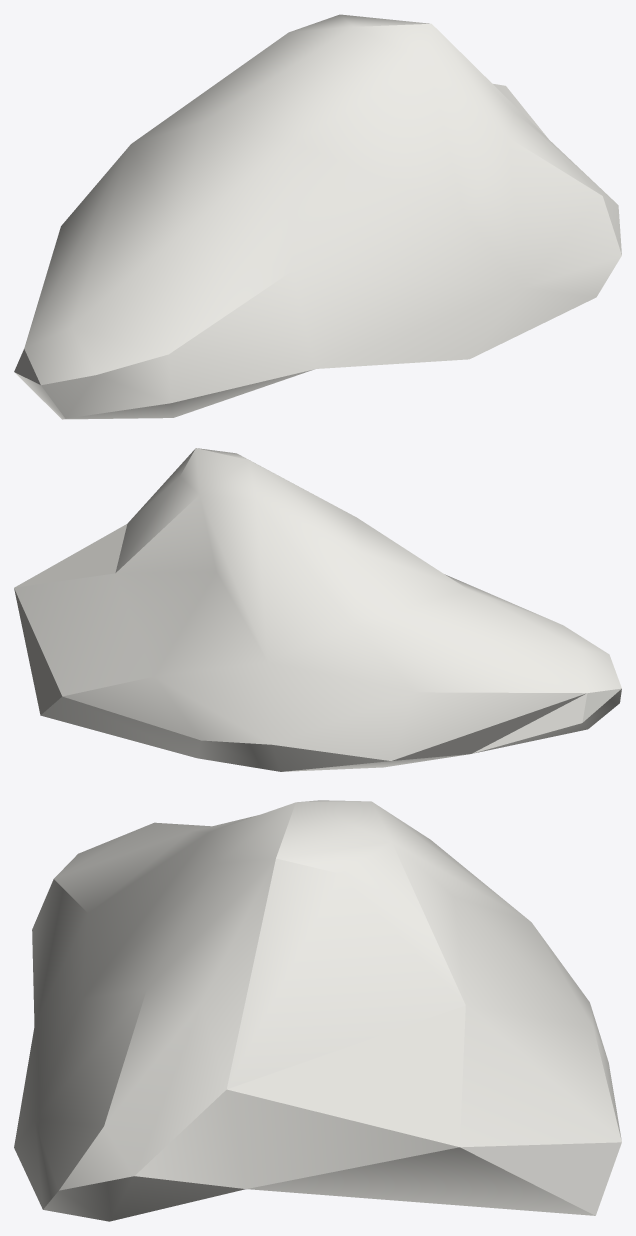
File: rock_8.fbx
3 renders of one model, top to bottom at view 1: azimuth 30°, elevation 25°; view 2: azimuth 150°, elevation 25°; view 3: azimuth 270°, elevation 25°, orthographic. The views are drawn at different scales.
Visible parts, largest first — view 1: rock.064; view 2: rock.064; view 3: rock.064.
Part boxes in pixels (x1,y1,x2,y2): rock.064: (14, 14, 621, 419); rock.064: (14, 448, 621, 771); rock.064: (14, 800, 621, 1221).
Size of the model in its own units: 391 by 174 by 264.
